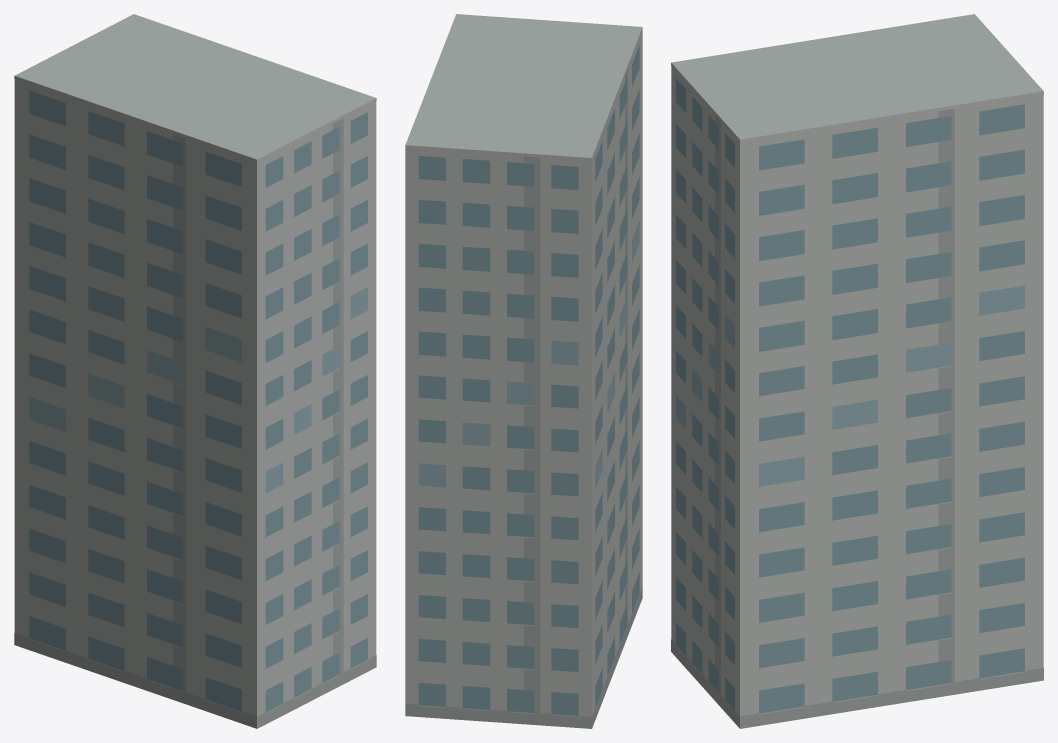
File: residential-ace9d712-0c77-467e-bdbf-cd55a0f2f65c.glb
3 views of the same model, side by side, from view 1: azimuth 30°, elevation 25°; view 2: azimuth 150°, elevation 25°; view 3: azimuth 270°, elevation 25° (orthographic). The views are drawn at different scales.
Visible parts, largest first — view 1: residential-ace9d712-0c77-467e-bdbf-cd55a0f2f65c.tmp; view 2: residential-ace9d712-0c77-467e-bdbf-cd55a0f2f65c.tmp; view 3: residential-ace9d712-0c77-467e-bdbf-cd55a0f2f65c.tmp.
Boxes of the visible parts, left/top/right/bottom form: residential-ace9d712-0c77-467e-bdbf-cd55a0f2f65c.tmp: left=14, top=14, right=376, bottom=728; residential-ace9d712-0c77-467e-bdbf-cd55a0f2f65c.tmp: left=405, top=14, right=642, bottom=728; residential-ace9d712-0c77-467e-bdbf-cd55a0f2f65c.tmp: left=671, top=14, right=1043, bottom=728.
Bounding box in the file's own units: 20.12 × 44 × 25.23.
